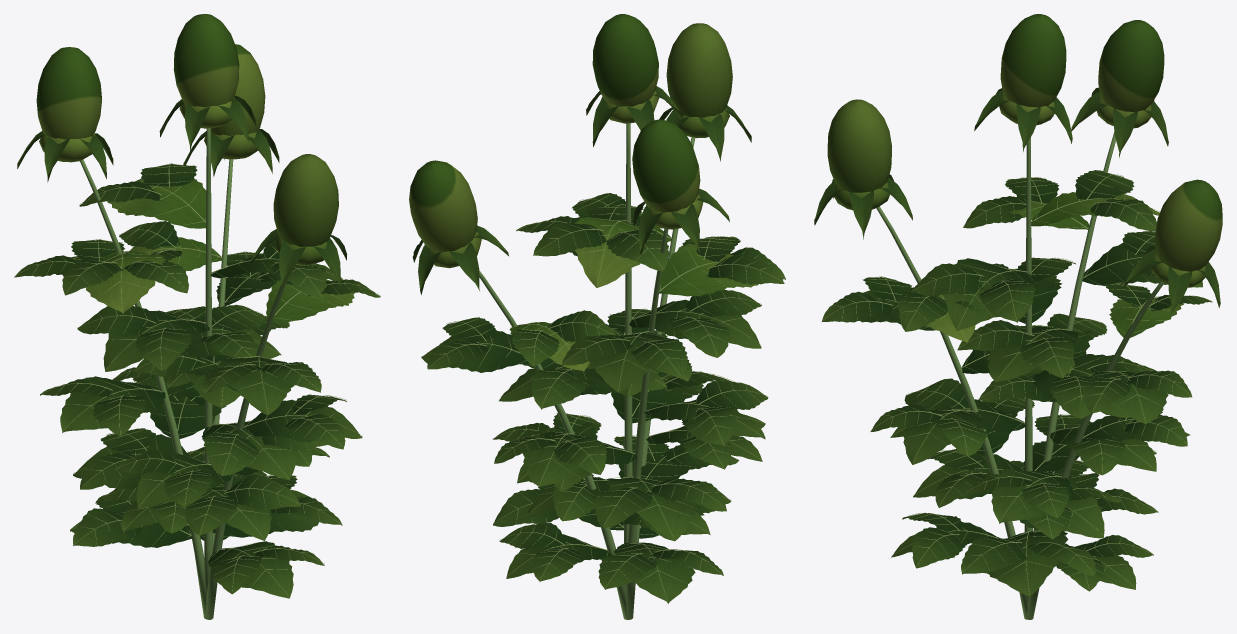
Rendered from dahlia-07.glb.
3 renders of one model, left to right at view 1: azimuth 30°, elevation 25°; view 2: azimuth 150°, elevation 25°; view 3: azimuth 270°, elevation 25°, orthographic.
Parts seen in each view (by area): view 1: dahlia_stage_07_leaf_veins.012, dahlia_stage_07_young_leaf.012, dahlia_stage_07_raised_midveins.012, dahlia_stage_07_stem_fibres.012; view 2: dahlia_stage_07_leaf_veins.012, dahlia_stage_07_young_leaf.012, dahlia_stage_07_raised_midveins.012, dahlia_stage_07_stem_fibres.012; view 3: dahlia_stage_07_leaf_veins.012, dahlia_stage_07_young_leaf.012, dahlia_stage_07_raised_midveins.012, dahlia_stage_07_stem_fibres.012.
Part boxes in pixels (left/top/right/bottom): dahlia_stage_07_leaf_veins.012: left=14, top=96, right=380, bottom=598; dahlia_stage_07_young_leaf.012: left=36, top=14, right=354, bottom=322; dahlia_stage_07_raised_midveins.012: left=14, top=163, right=380, bottom=596; dahlia_stage_07_stem_fibres.012: left=80, top=128, right=288, bottom=619; dahlia_stage_07_leaf_veins.012: left=412, top=86, right=785, bottom=603; dahlia_stage_07_young_leaf.012: left=409, top=14, right=758, bottom=371; dahlia_stage_07_raised_midveins.012: left=421, top=194, right=785, bottom=601; dahlia_stage_07_stem_fibres.012: left=479, top=123, right=695, bottom=619; dahlia_stage_07_leaf_veins.012: left=814, top=87, right=1220, bottom=596; dahlia_stage_07_young_leaf.012: left=827, top=14, right=1222, bottom=342; dahlia_stage_07_raised_midveins.012: left=822, top=170, right=1212, bottom=596; dahlia_stage_07_stem_fibres.012: left=876, top=132, right=1164, bottom=619.
Bounding box in the file's own units: 0.2884 × 0.5544 × 0.3408.
4 materials, 2 textured.
